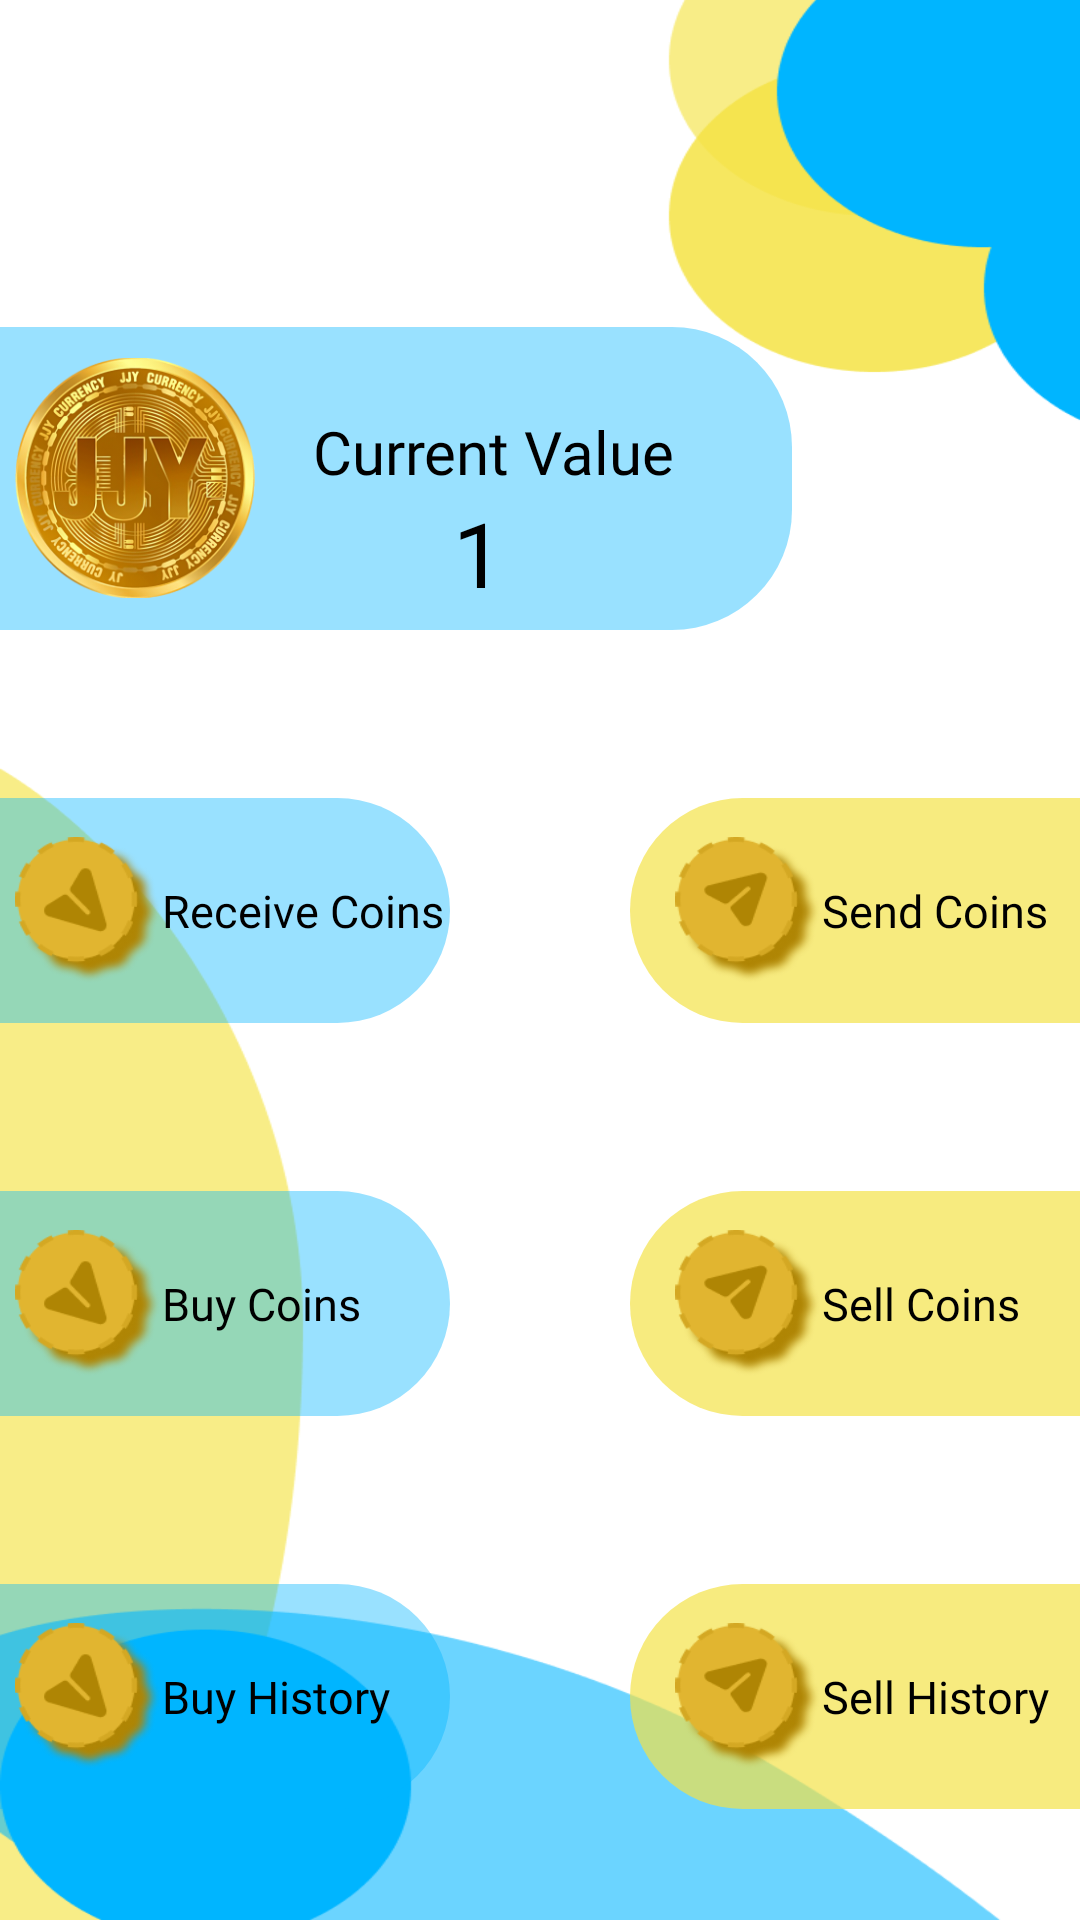

Screen size 1080x1920. Icon name, then its center in pixels as (x=x, y=y):
recivecoin: (x=88, y=907), (x=85, y=1300), (x=88, y=1696)
